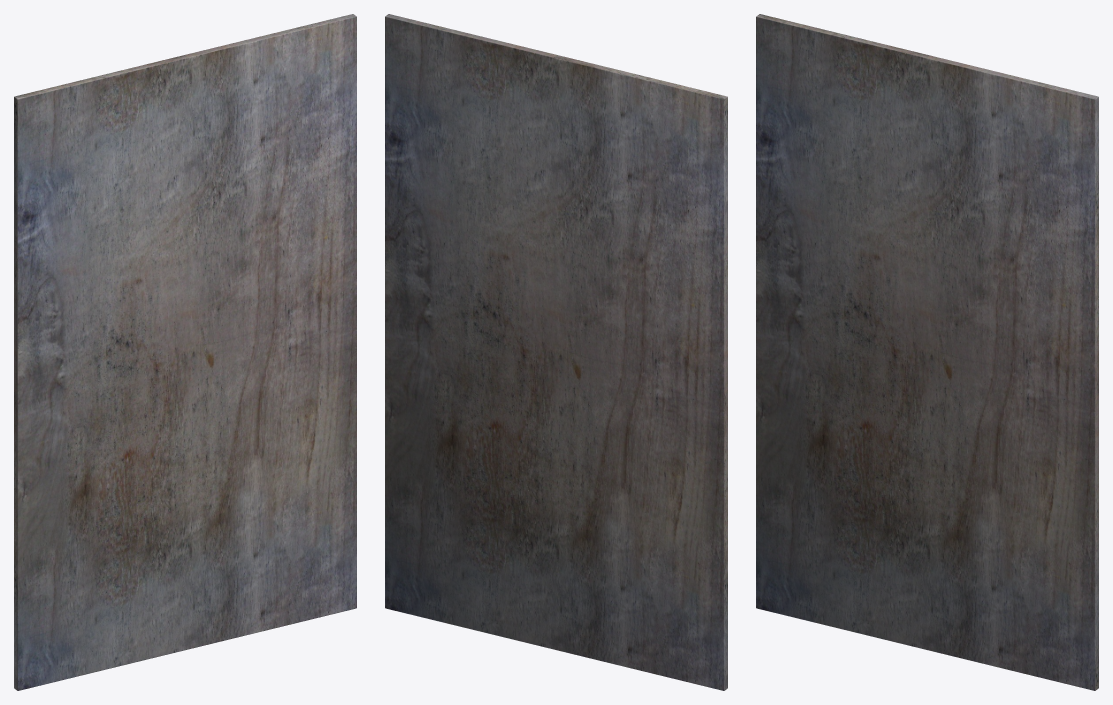
File: WoodPlate.FBX
The picture shows the model from 3 angles, left to right: view 1: azimuth 30°, elevation 25°; view 2: azimuth 150°, elevation 25°; view 3: azimuth 330°, elevation 25°; orthographic projection.
Visible parts, largest first — view 1: WoodPlate; view 2: WoodPlate; view 3: WoodPlate.
Boxes of the visible parts, <box> form: WoodPlate: <box>14,14,356,690</box>; WoodPlate: <box>385,14,727,690</box>; WoodPlate: <box>756,14,1098,690</box>.
Bounding box in the file's own units: 29.53 × 49.21 × 0.5906.
